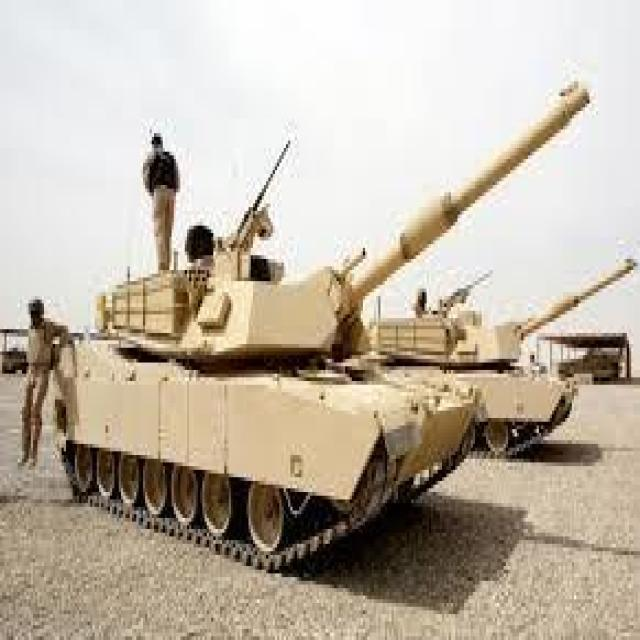MIL_MBT: (54, 261, 478, 583), (485, 318, 575, 462)
